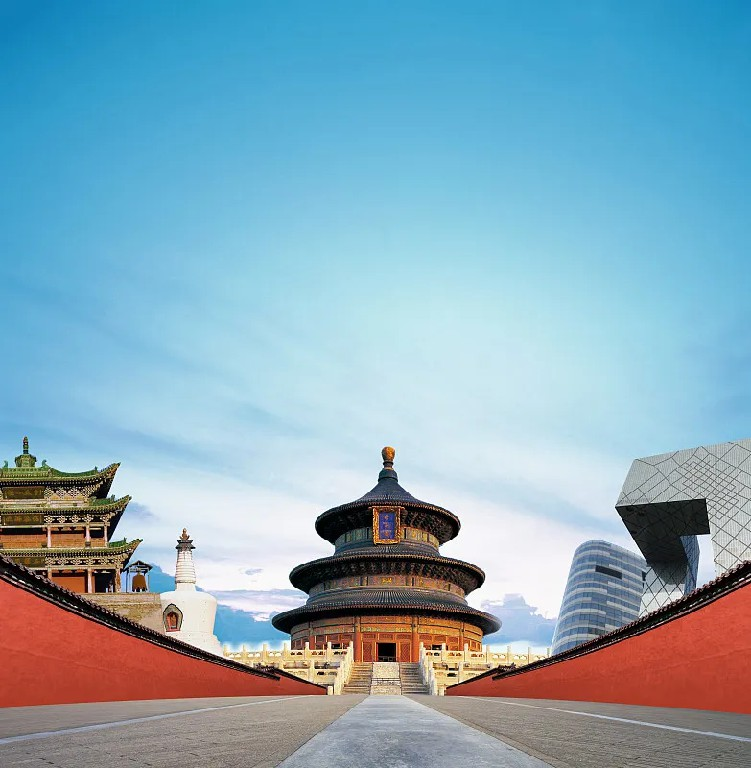Heaven: (269, 445, 501, 664)
